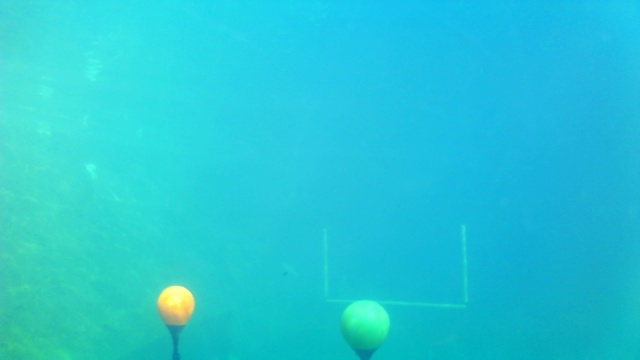buoy_red: (154, 285, 194, 333)
